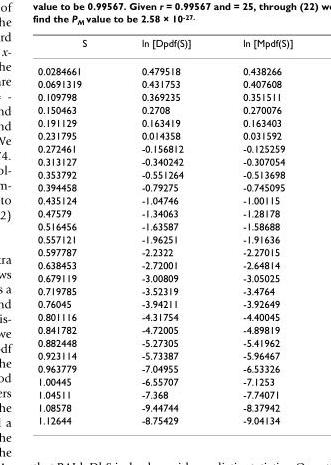table: (37, 36, 292, 425)
table column: (113, 36, 216, 425), (37, 36, 113, 425), (216, 36, 292, 425)
table column header: (37, 36, 292, 56)
table row: (37, 56, 292, 77), (37, 36, 292, 56), (37, 77, 292, 90), (37, 102, 292, 115), (37, 115, 292, 128), (37, 128, 292, 141), (37, 141, 292, 154), (37, 154, 292, 167), (37, 167, 292, 180), (37, 180, 292, 193), (37, 193, 292, 206), (37, 206, 292, 219), (37, 219, 292, 232), (37, 232, 292, 245), (37, 245, 292, 258), (37, 258, 292, 271), (37, 271, 292, 284), (37, 284, 292, 297), (37, 297, 292, 310), (37, 310, 292, 323), (37, 335, 292, 348), (37, 348, 292, 361), (37, 361, 292, 374), (37, 374, 292, 387), (37, 387, 292, 400), (37, 400, 292, 413), (37, 90, 292, 102), (37, 323, 292, 335), (37, 413, 292, 425)
